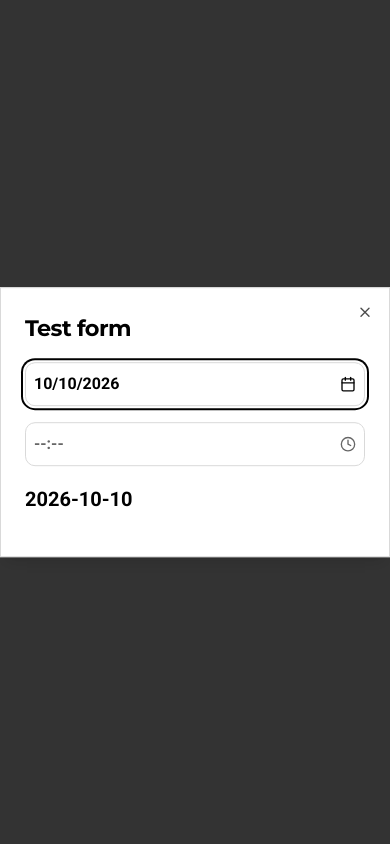
Scenario: nested modal pickers › commits time only on Done and supports clearing optional dates
Later steps or results of the test are not shown.
Click the button named "Notify Time".
click(49, 444)  # box [25,422,365,466]
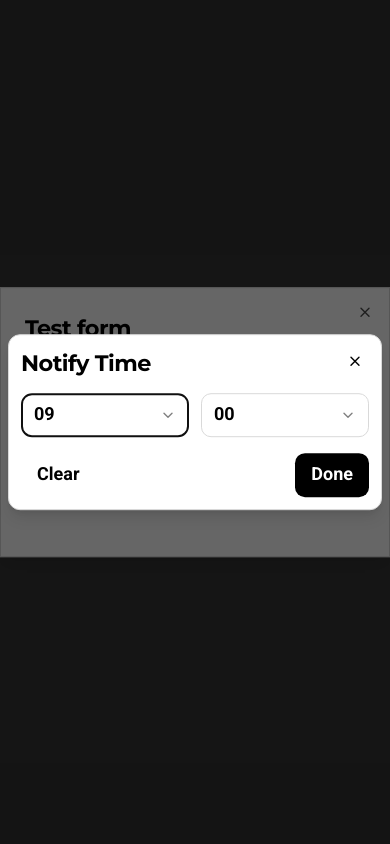
Click the button "Done".
click(332, 475)  # box [295,453,369,497]
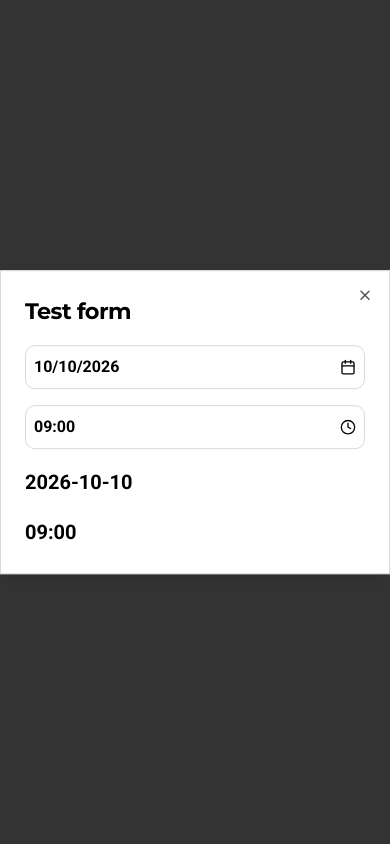
Result: the text with test id "time-value" reads "09:00" at [25,520,76,544]
